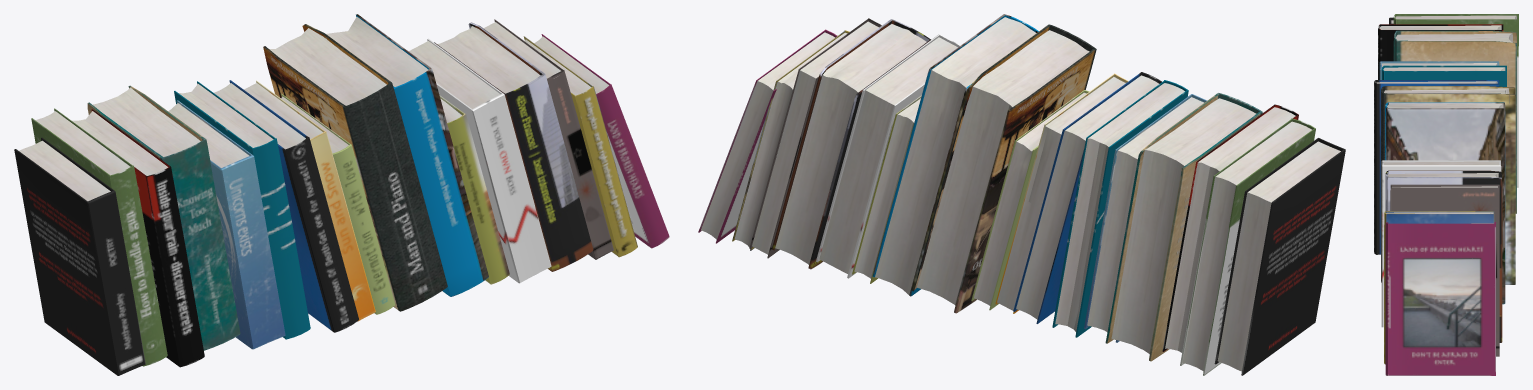
The model's file is AIUE_V01_004_librarybooks_25.FBX.
3 renders of one model, left to right at view 1: azimuth 30°, elevation 25°; view 2: azimuth 150°, elevation 25°; view 3: azimuth 270°, elevation 25°, orthographic. The views are drawn at different scales.
Visible parts, largest first — view 1: AIUE_V01_004_librarybooks_25; view 2: AIUE_V01_004_librarybooks_25; view 3: AIUE_V01_004_librarybooks_25.
Part boxes in pixels (left/top/right/bottom): AIUE_V01_004_librarybooks_25: left=14, top=14, right=669, bottom=375; AIUE_V01_004_librarybooks_25: left=698, top=14, right=1345, bottom=375; AIUE_V01_004_librarybooks_25: left=1374, top=14, right=1518, bottom=375.
Size of the model in its own units: 76.31 by 21.05 by 29.27.
